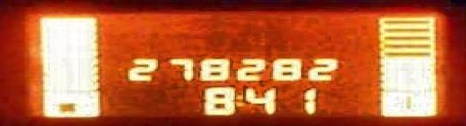1: (299, 86, 317, 116)
2: (123, 56, 158, 82), (232, 57, 266, 81), (306, 57, 339, 81)
4: (243, 86, 278, 116)
7: (164, 56, 194, 81)
8: (199, 86, 236, 116), (198, 57, 229, 82), (271, 56, 301, 80)
X: (233, 93, 244, 107)
